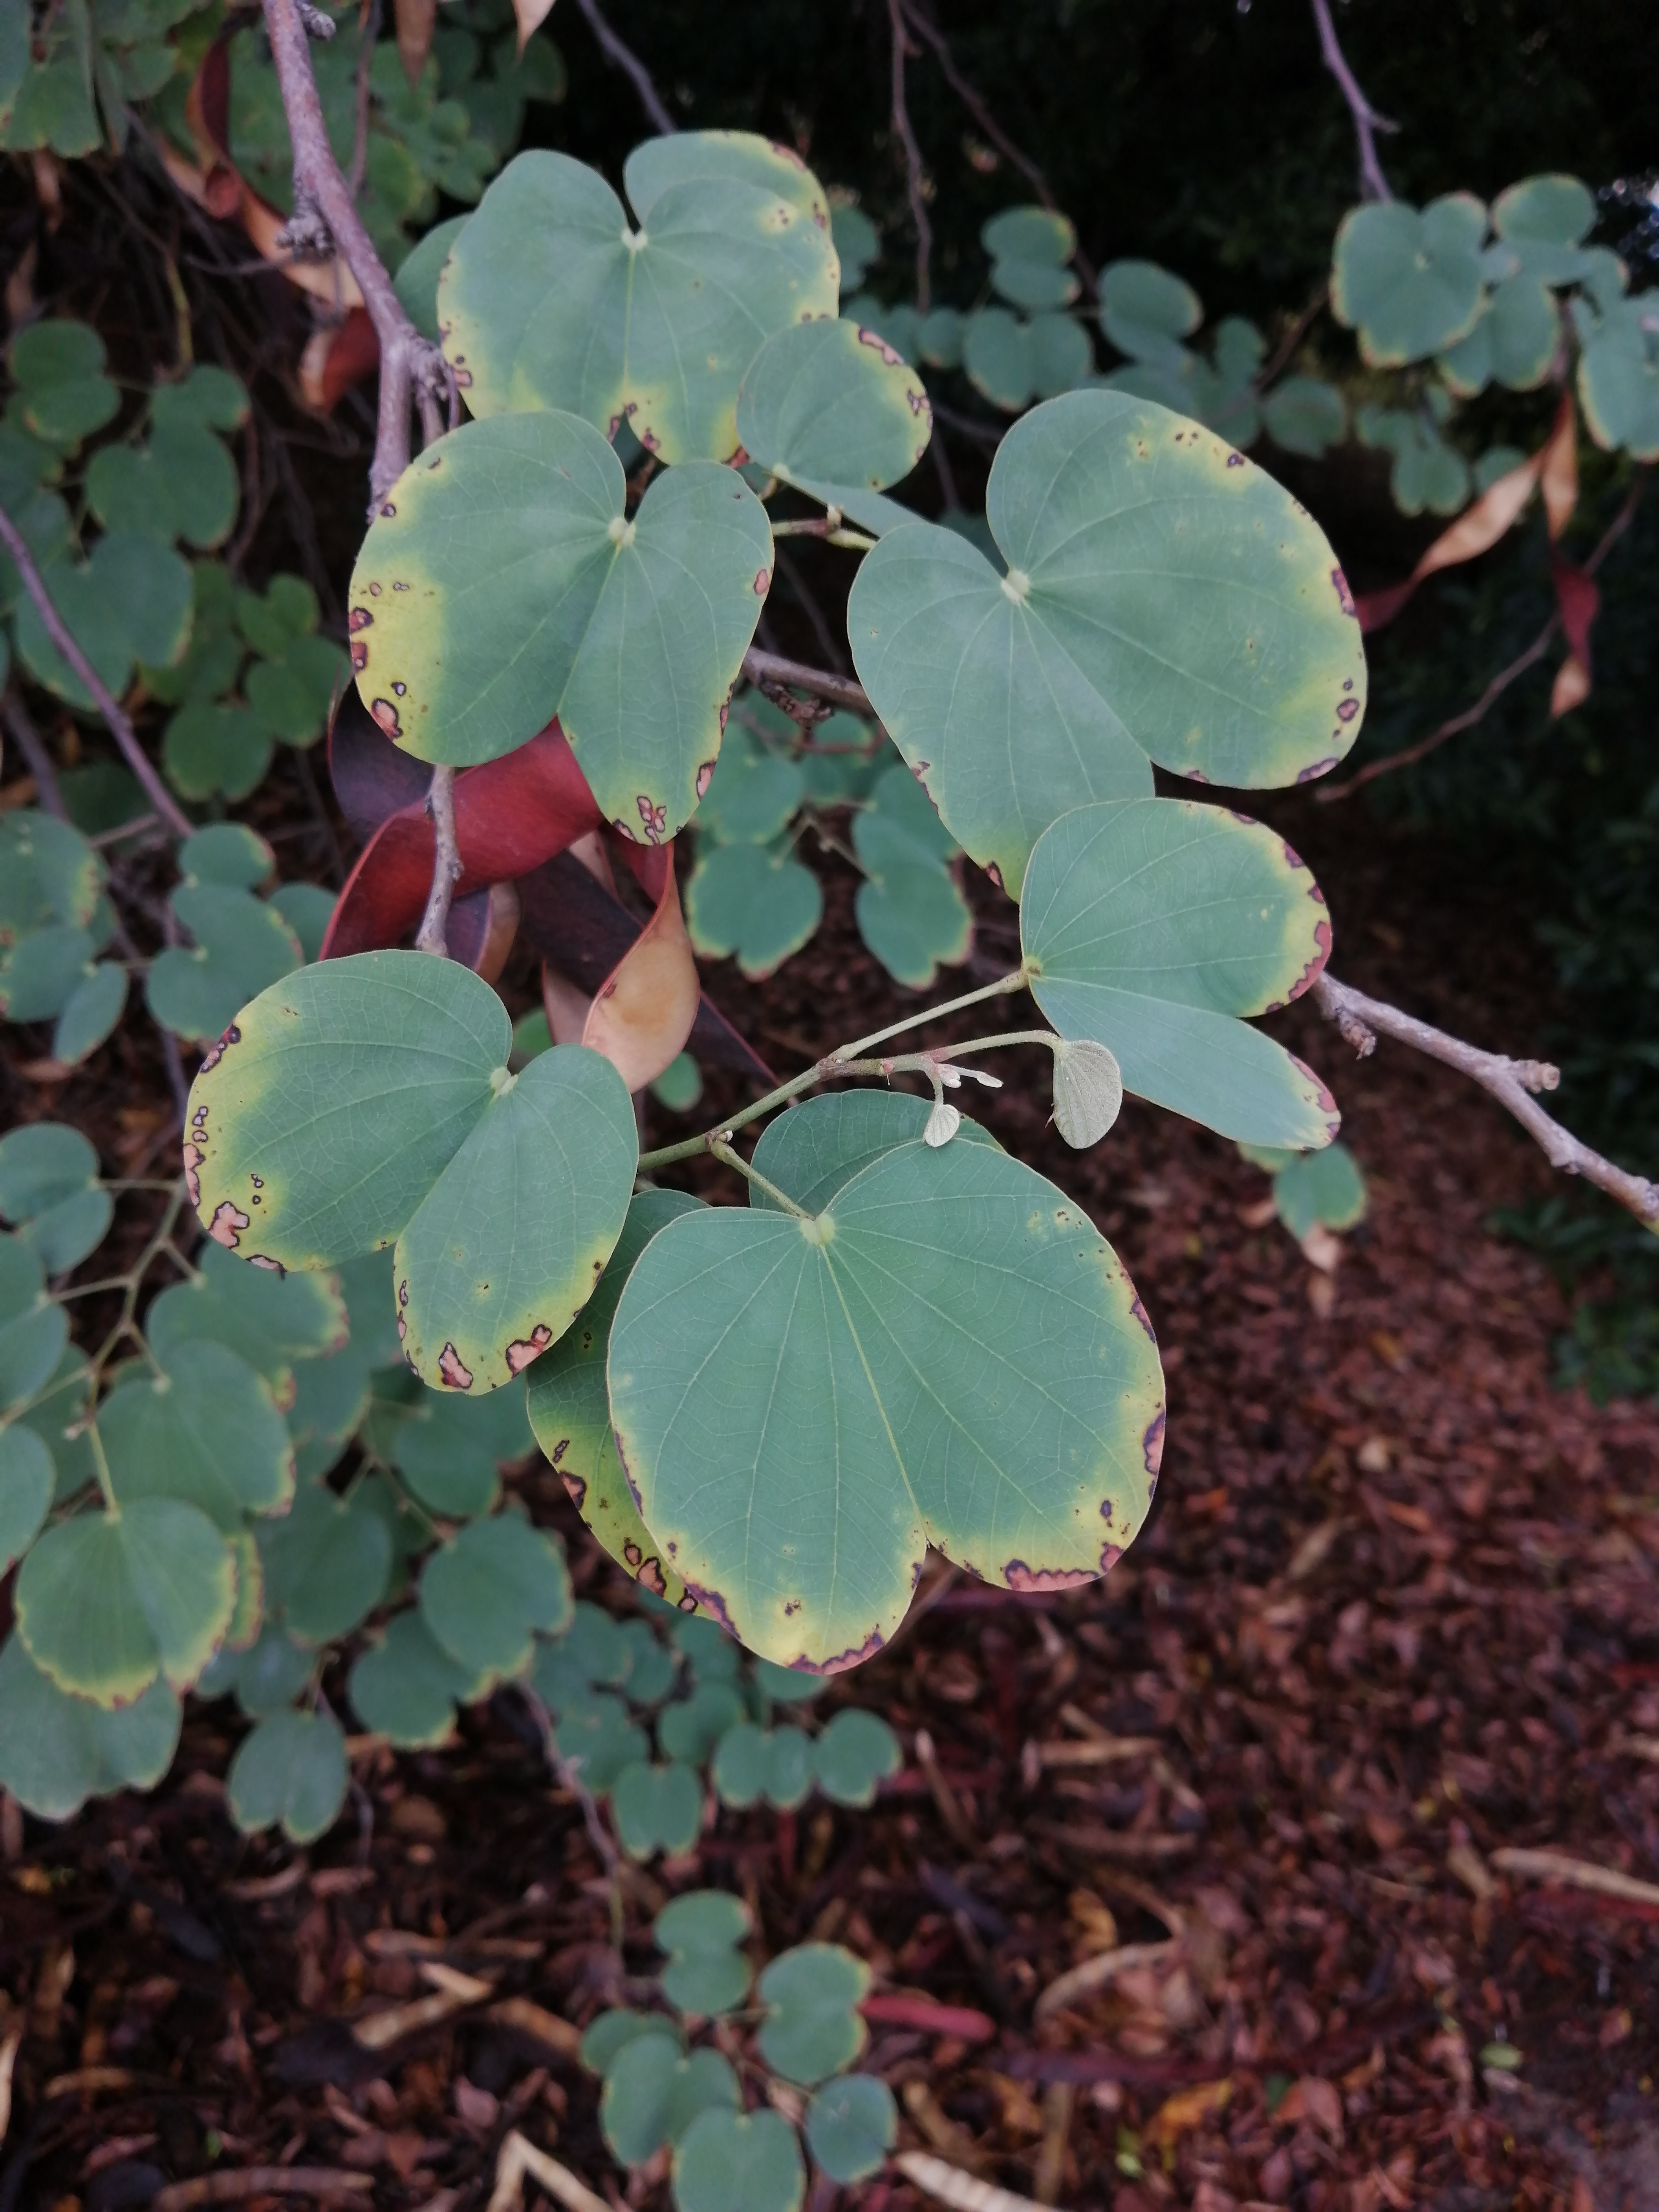nothealthy: (598, 1136, 1213, 1681), (178, 930, 659, 1413), (336, 413, 796, 845), (1009, 763, 1358, 1174)
